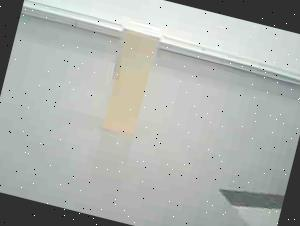Bottle A: (90, 11, 174, 144)
